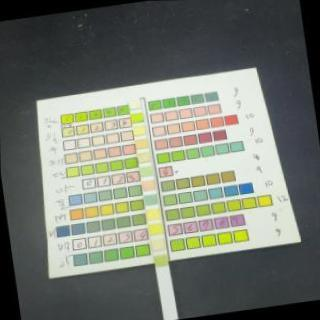mark: (155, 254, 169, 266), (149, 223, 163, 234), (143, 181, 156, 192), (144, 195, 158, 205), (146, 210, 160, 220), (152, 240, 166, 250), (140, 167, 154, 176), (132, 114, 144, 123), (140, 153, 150, 162), (130, 101, 141, 109), (134, 127, 145, 135), (136, 140, 147, 148)
